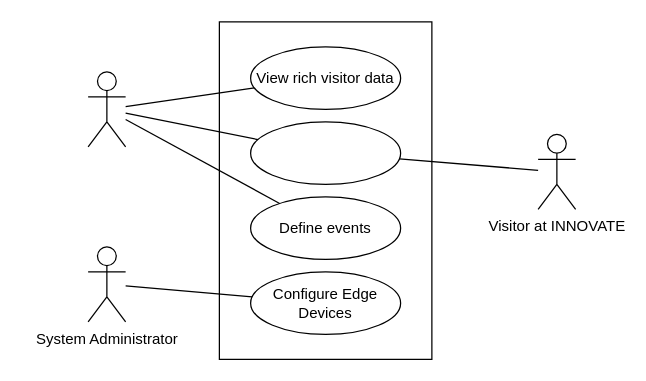
Image size: 646x381. Some labels were removed from this diagram. The shapes that lost their labels are listed below. From the top down, each one's centre as x and y in pixels, then its label:
At pixel 106 109: "INNOVATE administrative worker".
At pixel 325 152: "View visitor insights".
